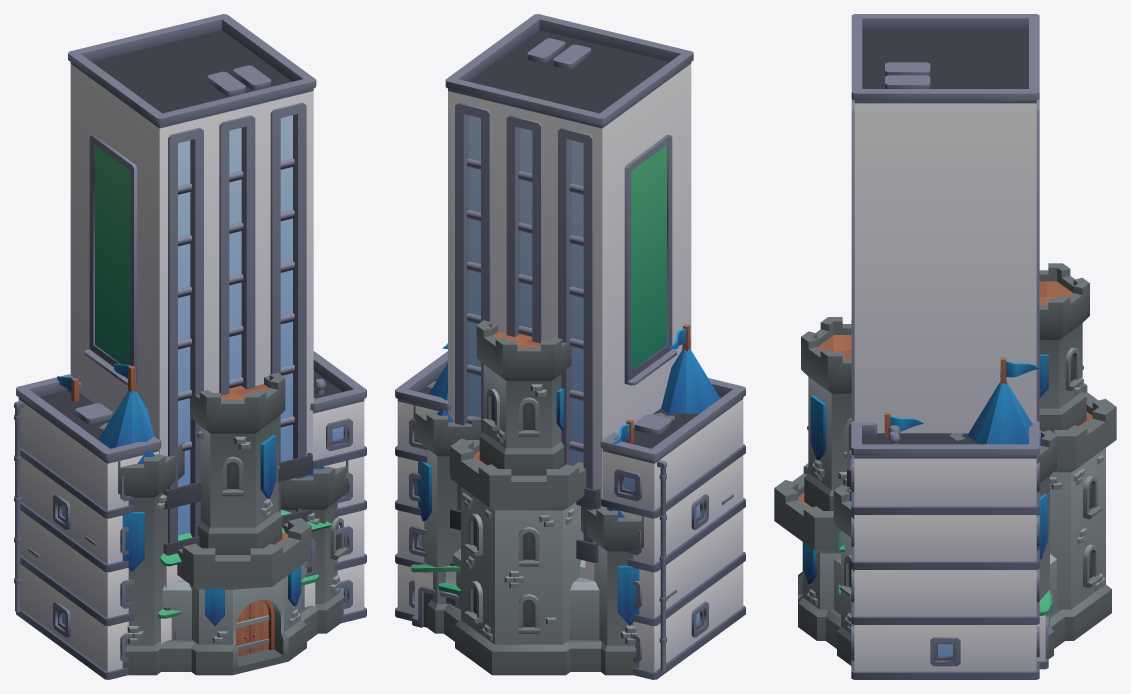
File: sky.glb
3 renders of one model, left to right at view 1: azimuth 30°, elevation 25°; view 2: azimuth 150°, elevation 25°; view 3: azimuth 270°, elevation 25°, orthographic. The views are drawn at different scales.
Parts seen in each view (by area): view 1: building-skyscraper-e, building_castle_blue, building-j, building-type-f, building-type-t; view 2: building-skyscraper-e, building_castle_blue, building-j, building-type-n; view 3: building-skyscraper-e, building-j, building_castle_blue, building-type-n.
Boxes of the visible parts, x1,y1,x2,y2 form: building-skyscraper-e: (68, 14, 316, 543); building_castle_blue: (28, 363, 348, 675); building-j: (14, 351, 366, 679); building-type-f: (160, 510, 331, 610); building-type-t: (158, 574, 318, 643); building-skyscraper-e: (445, 14, 693, 580); building_castle_blue: (413, 320, 733, 675); building-j: (395, 351, 745, 679); building-type-n: (410, 564, 460, 627); building-skyscraper-e: (851, 14, 1039, 433); building-j: (847, 319, 1039, 679); building_castle_blue: (774, 263, 1116, 665); building-type-n: (1036, 590, 1049, 669).
Size of the model in its own units: 2.08 by 4.08 by 2.26.
Materials: 3 (3 with a texture image).
